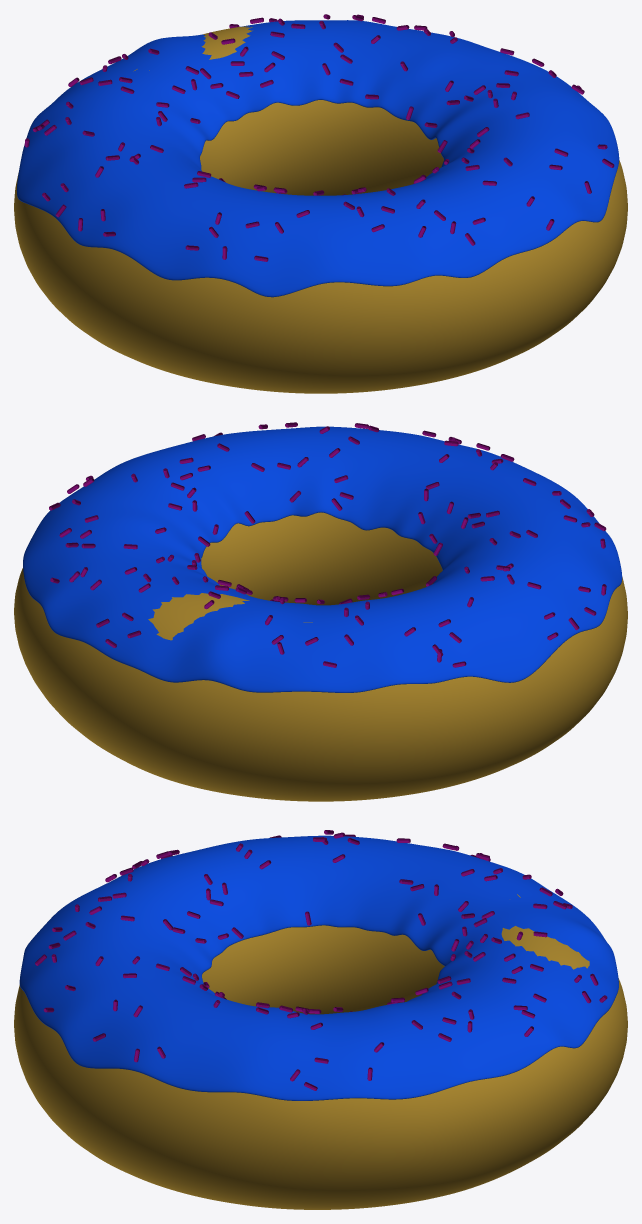
The picture shows the model from 3 angles, top to bottom: view 1: azimuth 30°, elevation 25°; view 2: azimuth 150°, elevation 25°; view 3: azimuth 270°, elevation 25°; orthographic projection.
Visible parts, largest first — view 1: Torus.001_Material.002_0, Torus_Material.001_0; view 2: Torus.001_Material.002_0, Torus_Material.001_0; view 3: Torus.001_Material.002_0, Torus_Material.001_0.
Boxes of the visible parts, x1=… form: Torus.001_Material.002_0: x1=16, y1=20, x2=619, y2=297; Torus_Material.001_0: x1=14, y1=26, x2=627, y2=393; Torus.001_Material.002_0: x1=23, y1=426, x2=622, y2=692; Torus_Material.001_0: x1=14, y1=512, x2=627, y2=801; Torus.001_Material.002_0: x1=19, y1=835, x2=618, y2=1100; Torus_Material.001_0: x1=14, y1=894, x2=627, y2=1209.
Size of the model in its own units: 293 by 97.2 by 293.
